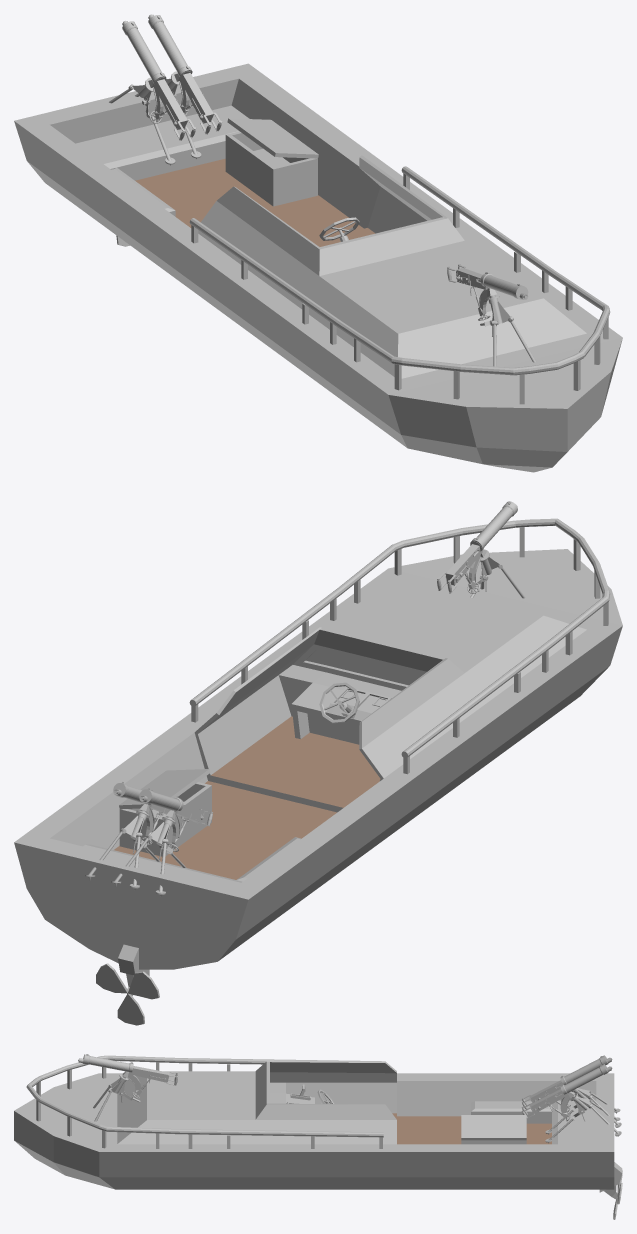
Rendered from small_boat3.fbx.
3 views of the same model, one above another, from view 1: azimuth 30°, elevation 25°; view 2: azimuth 150°, elevation 25°; view 3: azimuth 270°, elevation 25° (orthographic). The views are drawn at different scales.
Parts seen in each view (by area): view 1: small_boat2; view 2: small_boat2; view 3: small_boat2.
Boxes of the visible parts, x1,y1,x2,y2 form: small_boat2: (14,14,622,472); small_boat2: (14,501,622,1025); small_boat2: (14,1054,622,1219).
Size of the model in its own units: 428 by 419 by 1399.
